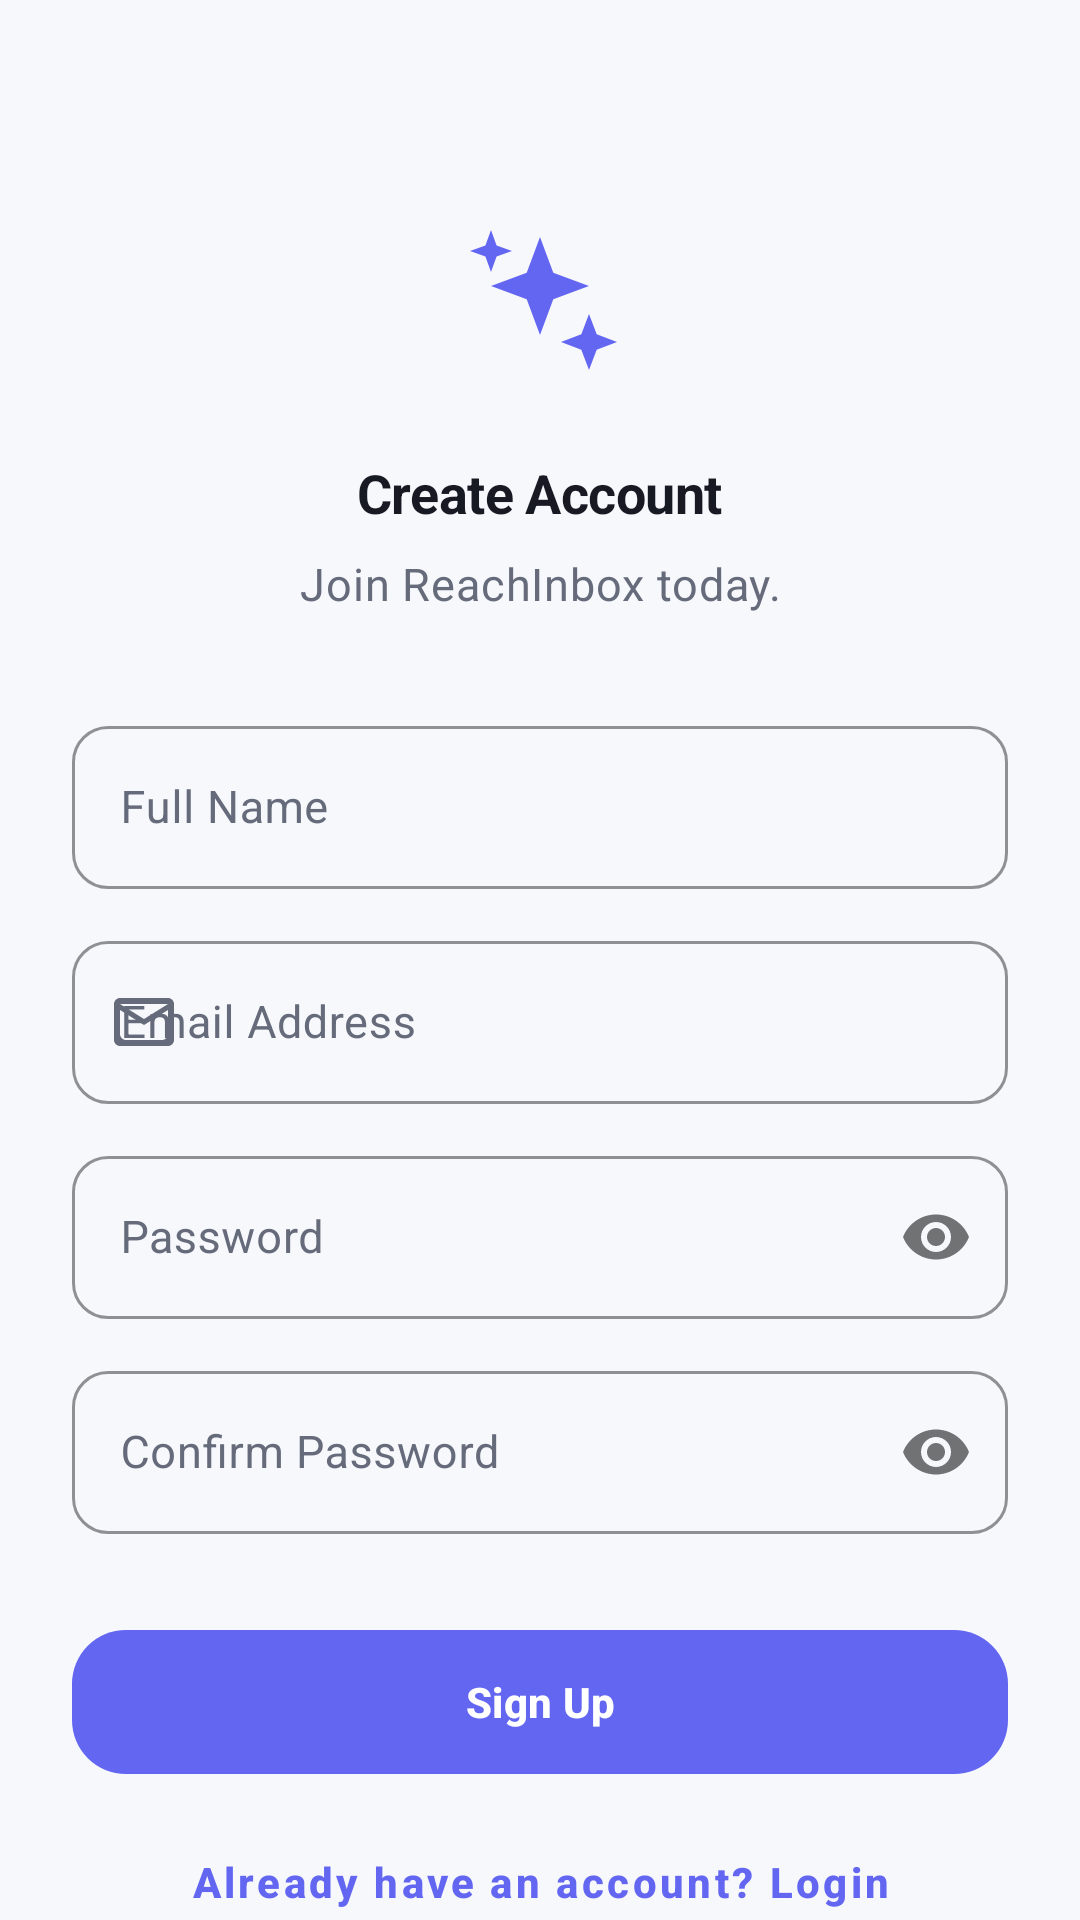

Where to tap for icons on this 1080 x 1920 app screen, as (x=x, y=y):
sparkles: (x=543, y=300)
